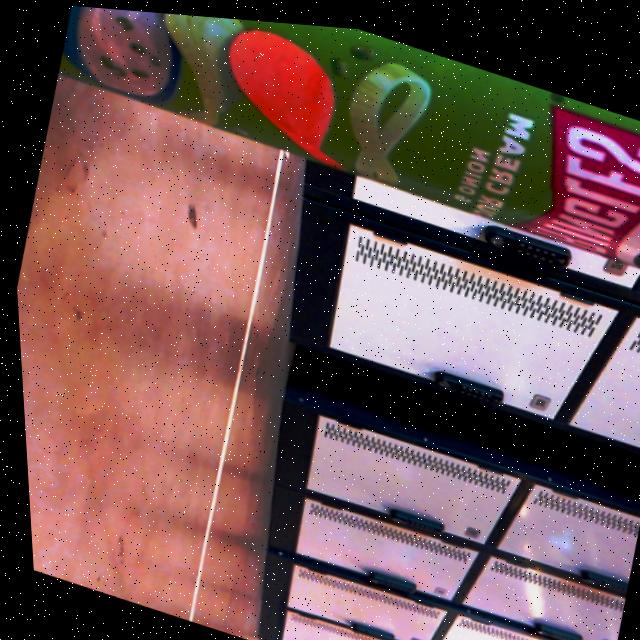greenpringles: (42, 3, 640, 307)
